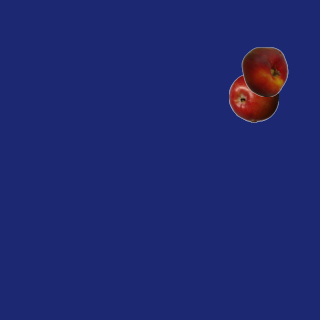Apple Braeburn: (228, 72, 278, 122)
Nectarine Flat: (239, 46, 289, 96)
